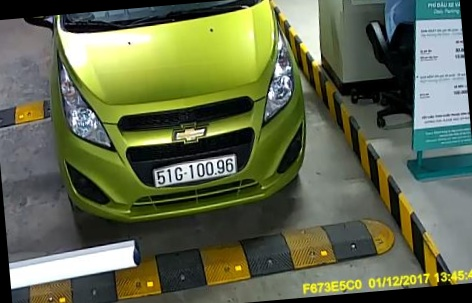plate: (137, 148, 250, 192)
